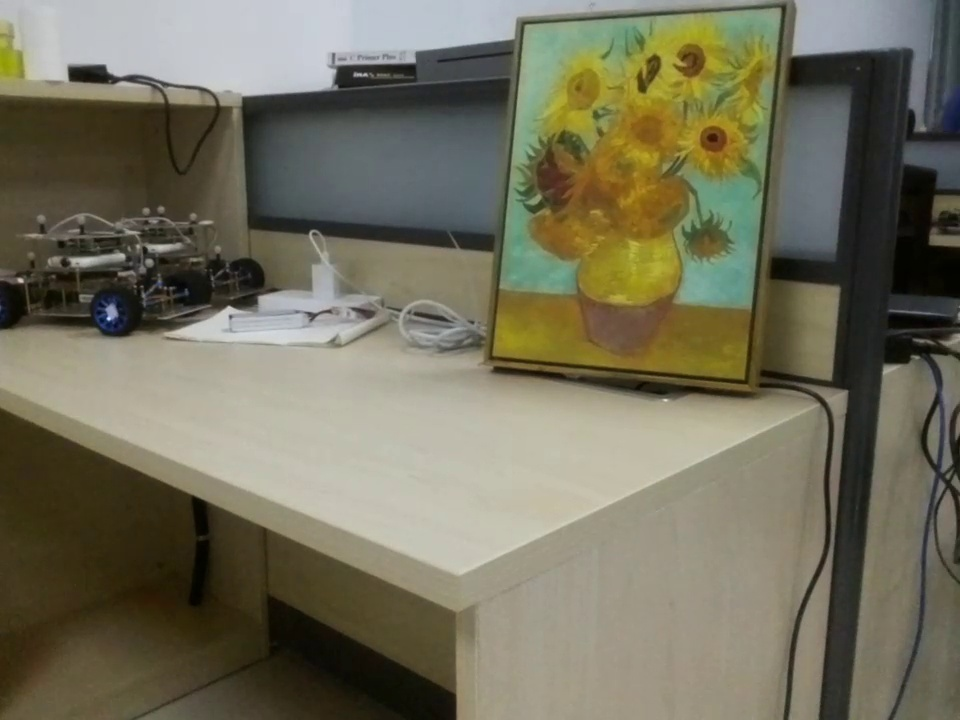painting: (488, 1, 802, 398)
